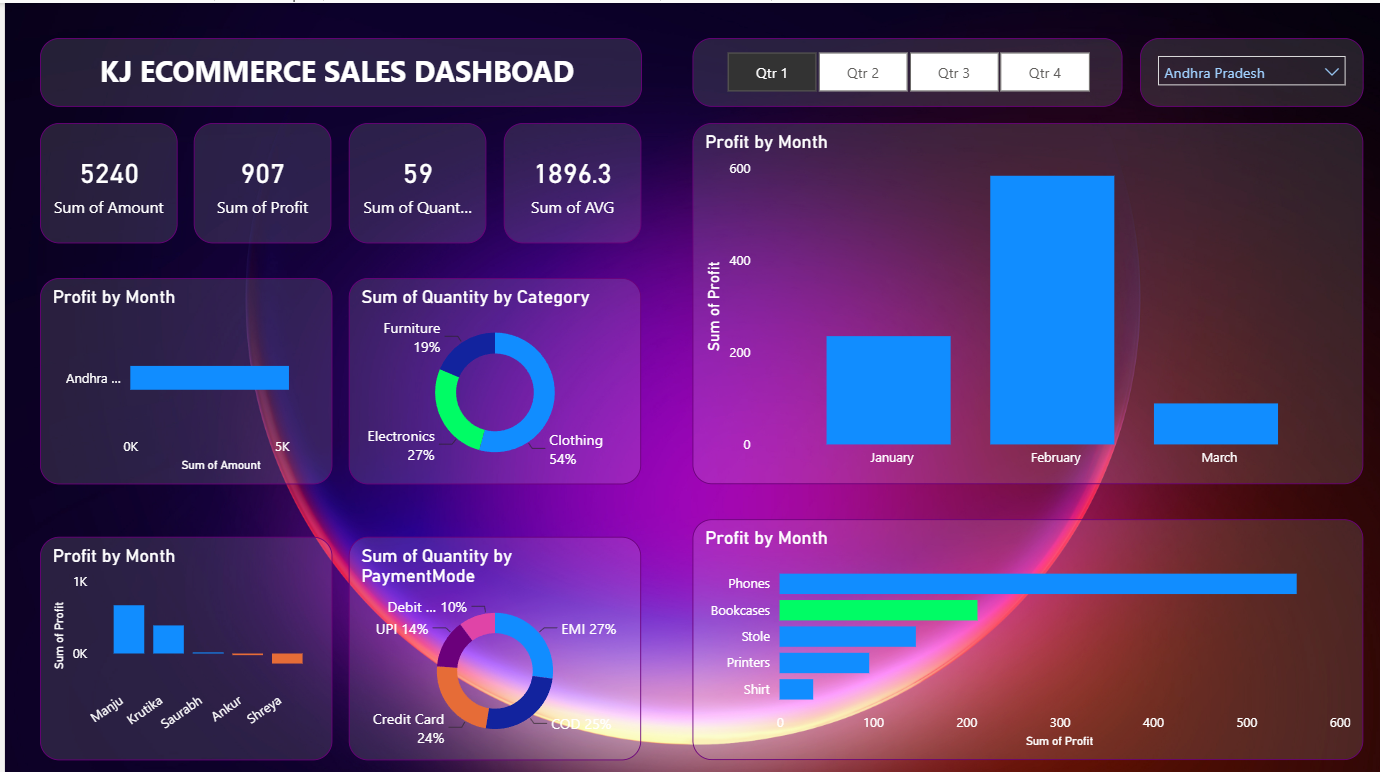

This screenshot's page, from the dashboard's own definition file:
{"tool":"powerbi","page":{"name":"KJ ","canvas":[1280,720],"ordinal":0},"visuals":[{"type":"textbox","box":[32,32,560,64],"z":0},{"type":"clusteredColumnChart","title":"Profit by Month","fields":{"Category":["Orders.Order Date.Variation.Date Hierarchy.Month"],"Y":["Sum(Details.Profit)"]},"box":[640,112,624,336],"z":1000},{"type":"barChart","title":"Profit by Month","fields":{"Category":["Details.Sub-Category"],"Y":["Sum(Details.Profit)"]},"box":[640,480,624,224],"z":2000},{"type":"donutChart","fields":{"Category":["Details.Category"],"Y":["Sum(Details.Quantity)"]},"box":[320,256,272,192],"z":3000},{"type":"donutChart","fields":{"Y":["Sum(Details.Quantity)"],"Category":["Details.PaymentMode"]},"box":[320,496,272,208],"z":4000},{"type":"card","fields":{"Values":["Sum(Details.Amount)"]},"box":[32,112,128,112],"z":5000},{"type":"card","fields":{"Values":["Sum(Details.Profit)"]},"box":[176,112,128,112],"z":6000},{"type":"card","fields":{"Values":["Sum(Details.Quantity)"]},"box":[320,112,128,112],"z":7000},{"type":"card","fields":{"Values":["Sum(Details.AVG)"]},"box":[464,112,128,112],"z":8000},{"type":"clusteredColumnChart","title":"Profit by Month","fields":{"Y":["Sum(Details.Profit)"],"Category":["Orders.CustomerName"]},"box":[32,496,272,208],"z":9000},{"type":"barChart","title":"Profit by Month","fields":{"Y":["Sum(Details.Amount)"],"Category":["Orders.State"]},"box":[32,256,272,192],"z":9001},{"type":"slicer","fields":{"Values":["Orders.Order Date.Variation.Date Hierarchy.Quarter"]},"box":[640,32,400,64],"z":9002},{"type":"slicer","fields":{"Values":["Orders.State"]},"box":[1056,32,208,64],"z":9003}]}

Visuals, with their boxes in screenshot pixels (x1, y1, x2, y2), scaled from the page's 1280x720 canvas onto the 1380x772 screenshot:
textbox: crop(34, 34, 638, 103)
"Profit by Month" clusteredColumnChart: crop(690, 120, 1363, 480)
"Profit by Month" barChart: crop(690, 515, 1363, 755)
donutChart - Details.Category x Sum(Details.Quantity): crop(345, 274, 638, 480)
donutChart - Sum(Details.Quantity) x Details.PaymentMode: crop(345, 532, 638, 755)
card - Sum(Details.Amount): crop(34, 120, 172, 240)
card - Sum(Details.Profit): crop(190, 120, 328, 240)
card - Sum(Details.Quantity): crop(345, 120, 483, 240)
card - Sum(Details.AVG): crop(500, 120, 638, 240)
"Profit by Month" clusteredColumnChart: crop(34, 532, 328, 755)
"Profit by Month" barChart: crop(34, 274, 328, 480)
slicer - Orders.Order Date.Variation.Date Hierarchy.Quarter: crop(690, 34, 1121, 103)
slicer - Orders.State: crop(1138, 34, 1363, 103)
